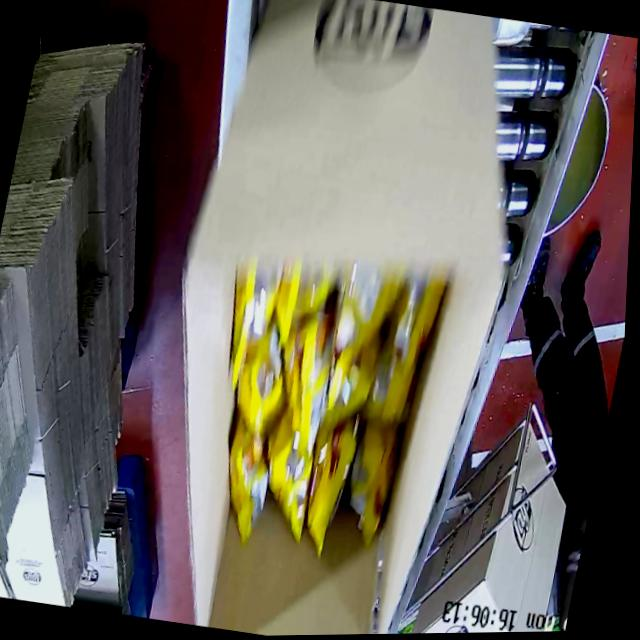SALTED: (186, 254, 444, 551)
